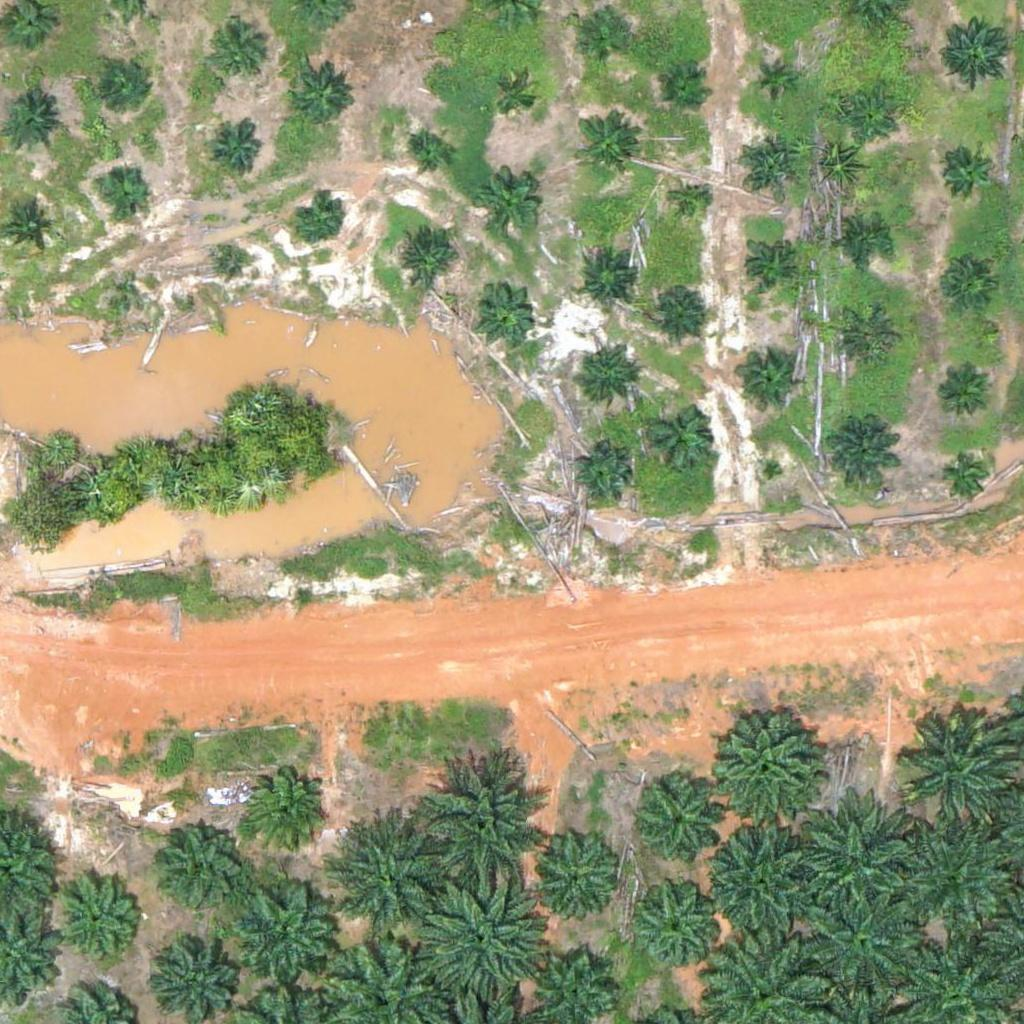Kelapa_Sawit: (891, 813, 1016, 939), (802, 882, 927, 1008), (796, 802, 921, 928), (700, 822, 825, 948), (422, 755, 547, 881), (417, 876, 542, 1002), (331, 811, 456, 937), (705, 708, 818, 822), (238, 883, 338, 984), (525, 824, 625, 924), (160, 824, 248, 912), (53, 879, 141, 967), (637, 880, 724, 968), (636, 781, 723, 869), (240, 767, 327, 855), (824, 413, 899, 489), (638, 400, 713, 476), (938, 8, 1013, 83), (737, 130, 800, 193), (474, 171, 537, 234), (571, 348, 634, 411), (470, 280, 533, 343), (738, 349, 801, 412), (570, 445, 633, 508), (573, 112, 635, 175), (290, 60, 352, 123), (208, 23, 270, 86), (837, 308, 899, 371), (393, 225, 455, 288), (578, 250, 640, 312), (645, 278, 707, 340), (843, 95, 893, 146), (938, 146, 988, 197), (97, 161, 147, 212), (101, 62, 151, 113), (4, 204, 54, 255), (942, 259, 992, 310), (838, 217, 888, 267), (212, 127, 262, 177), (293, 194, 343, 244), (572, 18, 622, 68), (937, 370, 987, 420), (742, 240, 792, 290), (943, 451, 993, 501), (658, 65, 708, 115), (489, 74, 539, 124), (404, 131, 454, 181), (674, 186, 712, 224), (753, 61, 790, 99), (218, 247, 243, 272), (428, 24, 453, 49), (123, 281, 148, 306)
